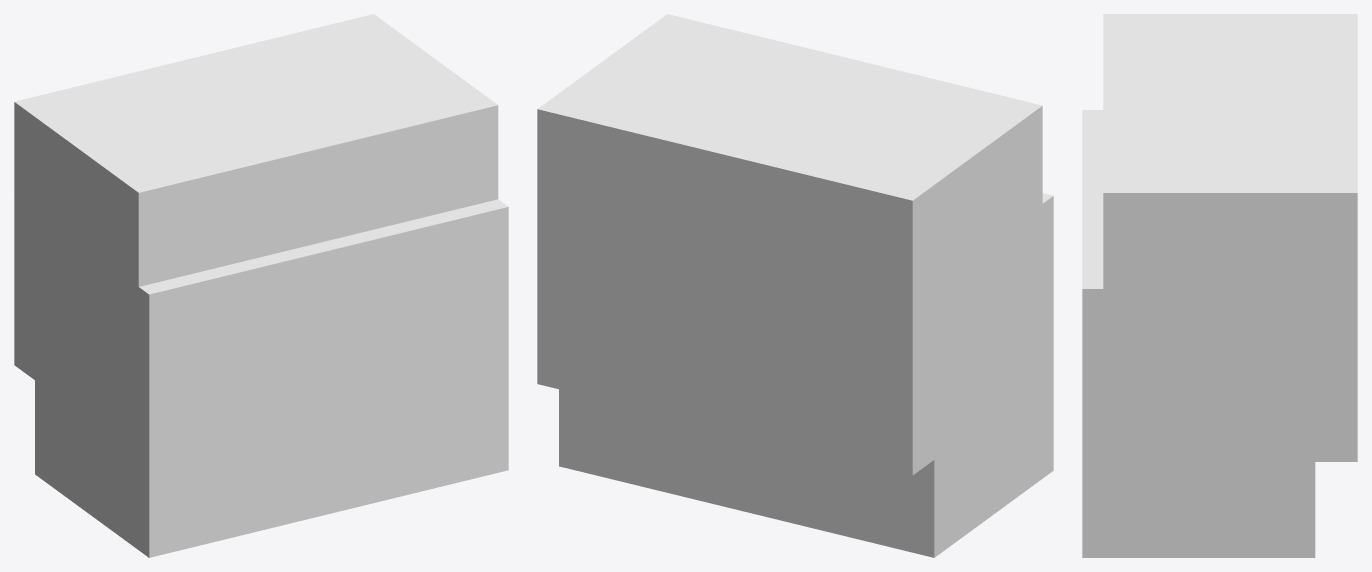
The model's file is body-upper.obj.
3 renders of one model, left to right at view 1: azimuth 30°, elevation 25°; view 2: azimuth 150°, elevation 25°; view 3: azimuth 270°, elevation 25°, orthographic. The views are drawn at different scales.
Visible parts, largest first — view 1: _3; view 2: _3; view 3: _3.
Part boxes in pixels (<box>): _3: <box>14,14,508,557</box>; _3: <box>537,14,1053,557</box>; _3: <box>1082,14,1357,557</box>.
Size of the model in its own units: 20 by 19 by 13.
1 material, 1 textured.
